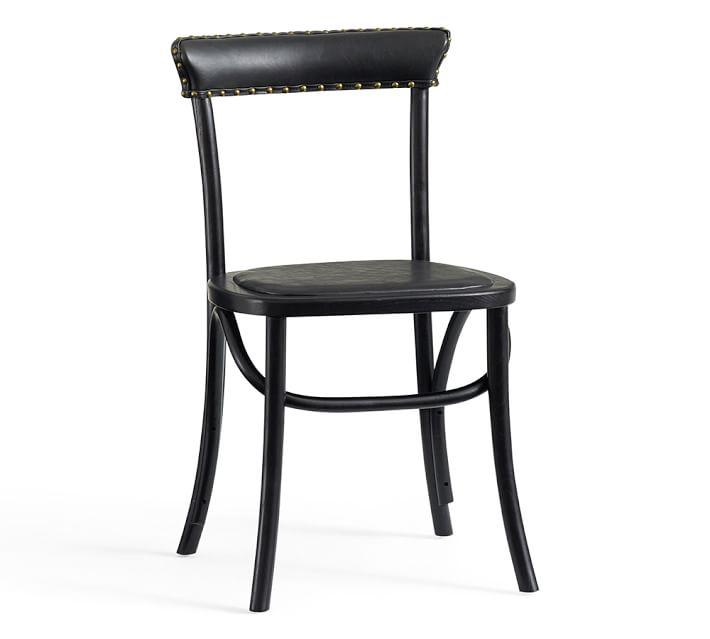chair: (158, 26, 576, 623)
